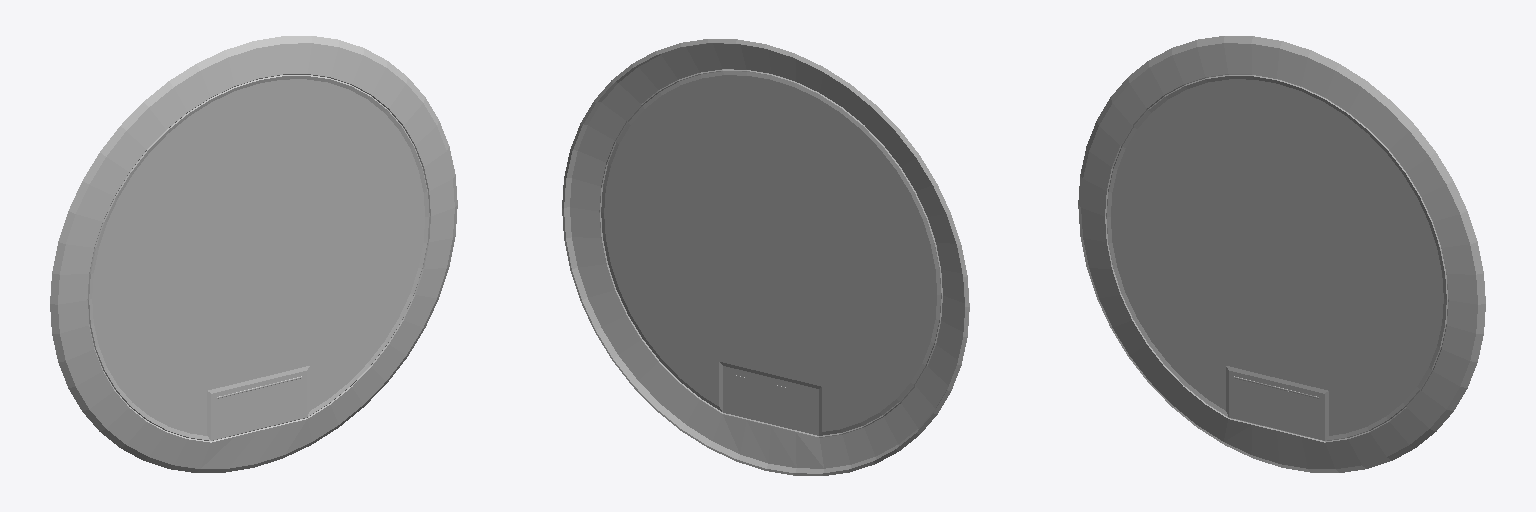
File: SM_Bodenspot_02.obj
The picture shows the model from 3 angles: view 1: azimuth 30°, elevation 25°; view 2: azimuth 150°, elevation 25°; view 3: azimuth 330°, elevation 25°; orthographic projection.
Visible parts, largest first — view 1: SM_Bodenspot_02; view 2: SM_Bodenspot_02; view 3: SM_Bodenspot_02.
Boxes of the visible parts, x1=… form: SM_Bodenspot_02: x1=50, y1=36, x2=457, y2=472; SM_Bodenspot_02: x1=562, y1=39, x2=969, y2=475; SM_Bodenspot_02: x1=1078, y1=36, x2=1485, y2=472.
Bounding box in the file's own units: 0.235 × 0.235 × 0.0068.